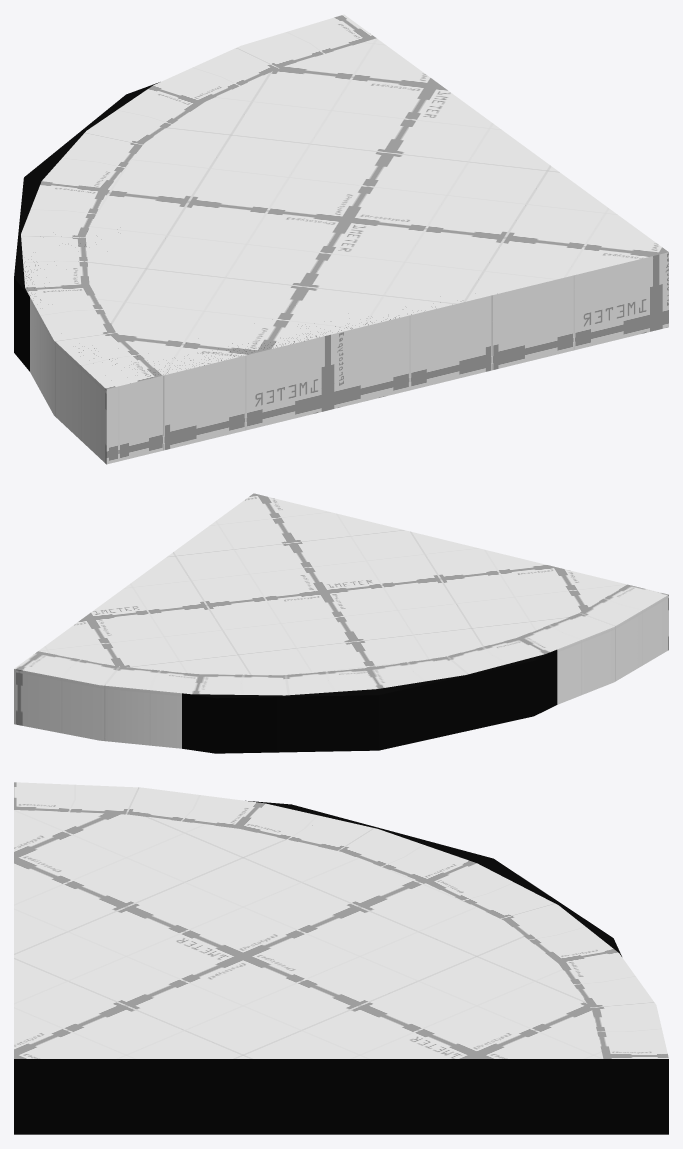
File: ACERA_esquina_Wcollider.fbx
3 renders of one model, top to bottom at view 1: azimuth 30°, elevation 25°; view 2: azimuth 150°, elevation 25°; view 3: azimuth 270°, elevation 25°, orthographic. The views are drawn at different scales.
Parts seen in each view (by area): view 1: ACERA_esquina, ACERA_esquina_CM; view 2: ACERA_esquina, ACERA_esquina_CM; view 3: ACERA_esquina, ACERA_esquina_CM.
Boxes of the visible parts, x1,y1,x2,y2 form: ACERA_esquina: (21,14,668,464); ACERA_esquina_CM: (14,82,411,375); ACERA_esquina: (14,493,668,748); ACERA_esquina_CM: (182,649,557,753); ACERA_esquina: (14,782,668,1058); ACERA_esquina_CM: (14,800,668,1134).
Size of the model in its own units: 1.99 by 0.2541 by 1.99.
